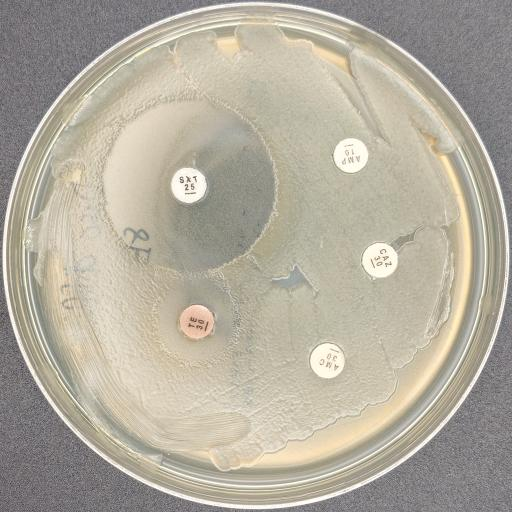disc: (170, 167, 208, 203), (333, 137, 369, 173), (362, 242, 398, 278), (308, 343, 344, 379), (178, 304, 214, 340)
